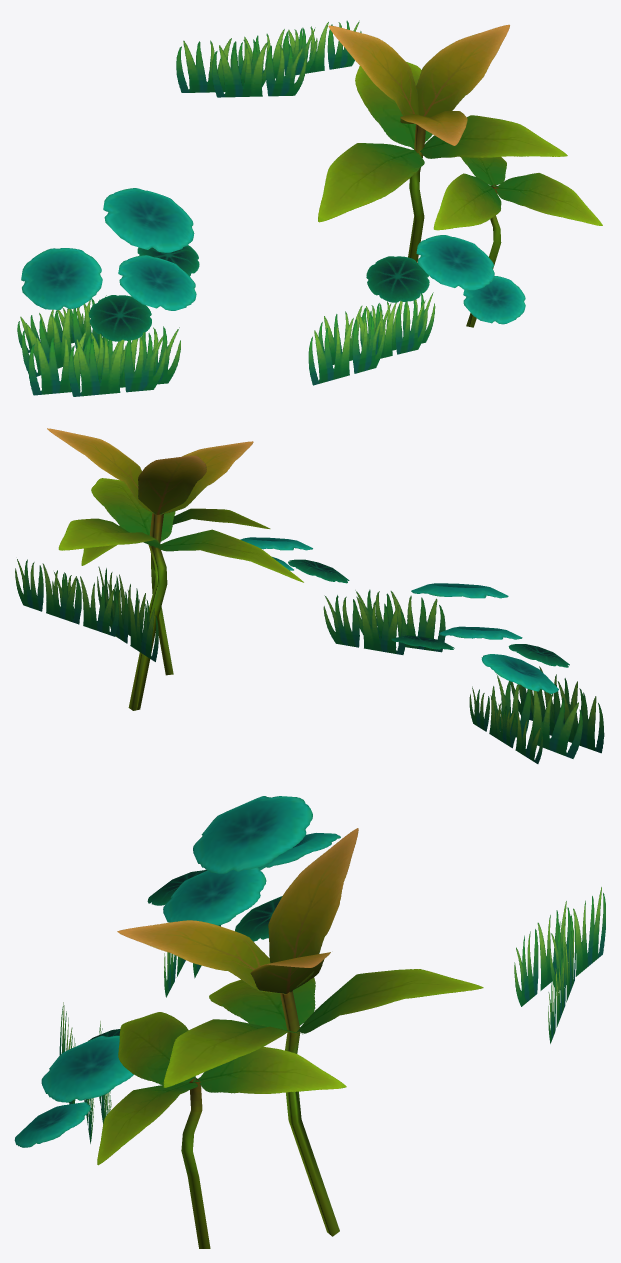
Rendered from roundleaf-carpet-tuft.glb.
3 renders of one model, top to bottom at view 1: azimuth 30°, elevation 25°; view 2: azimuth 150°, elevation 25°; view 3: azimuth 270°, elevation 25°, orthographic. The views are drawn at different scales.
Visible parts, largest first — view 1: Minimassyurumu49__mAquariumPlant; view 2: Minimassyurumu49__mAquariumPlant; view 3: Minimassyurumu49__mAquariumPlant.
Part boxes in pixels (box(x1,y1,x2,y2)): Minimassyurumu49__mAquariumPlant: box(17, 20, 602, 396); Minimassyurumu49__mAquariumPlant: box(15, 428, 604, 763); Minimassyurumu49__mAquariumPlant: box(14, 796, 605, 1248).
Size of the model in its own units: 1 by 0.5054 by 0.7339.
Materials: 1 (1 with a texture image).
